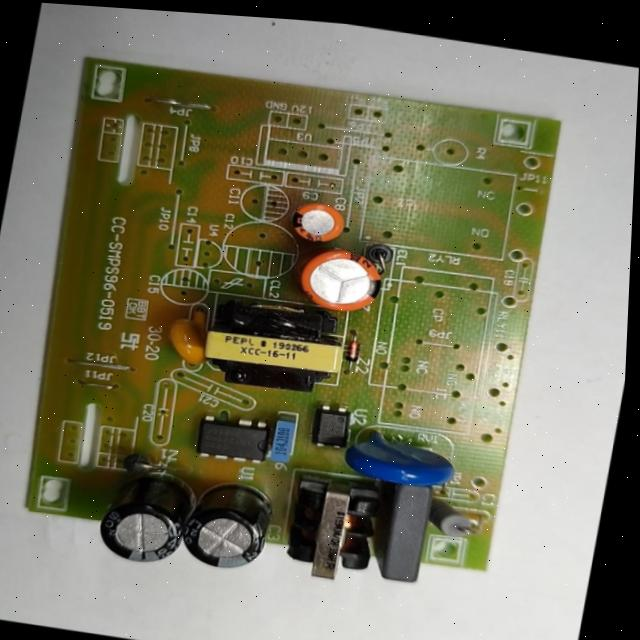Cap1: (295, 242, 389, 322)
Cap2: (285, 197, 351, 247)
Cap3: (175, 472, 278, 576)
Cap4: (92, 463, 192, 570)
MOSFET: (192, 411, 275, 468)
Mov: (337, 424, 462, 492)
Resistor: (423, 493, 477, 544)
Transformer: (194, 302, 352, 403), (281, 475, 384, 589)
